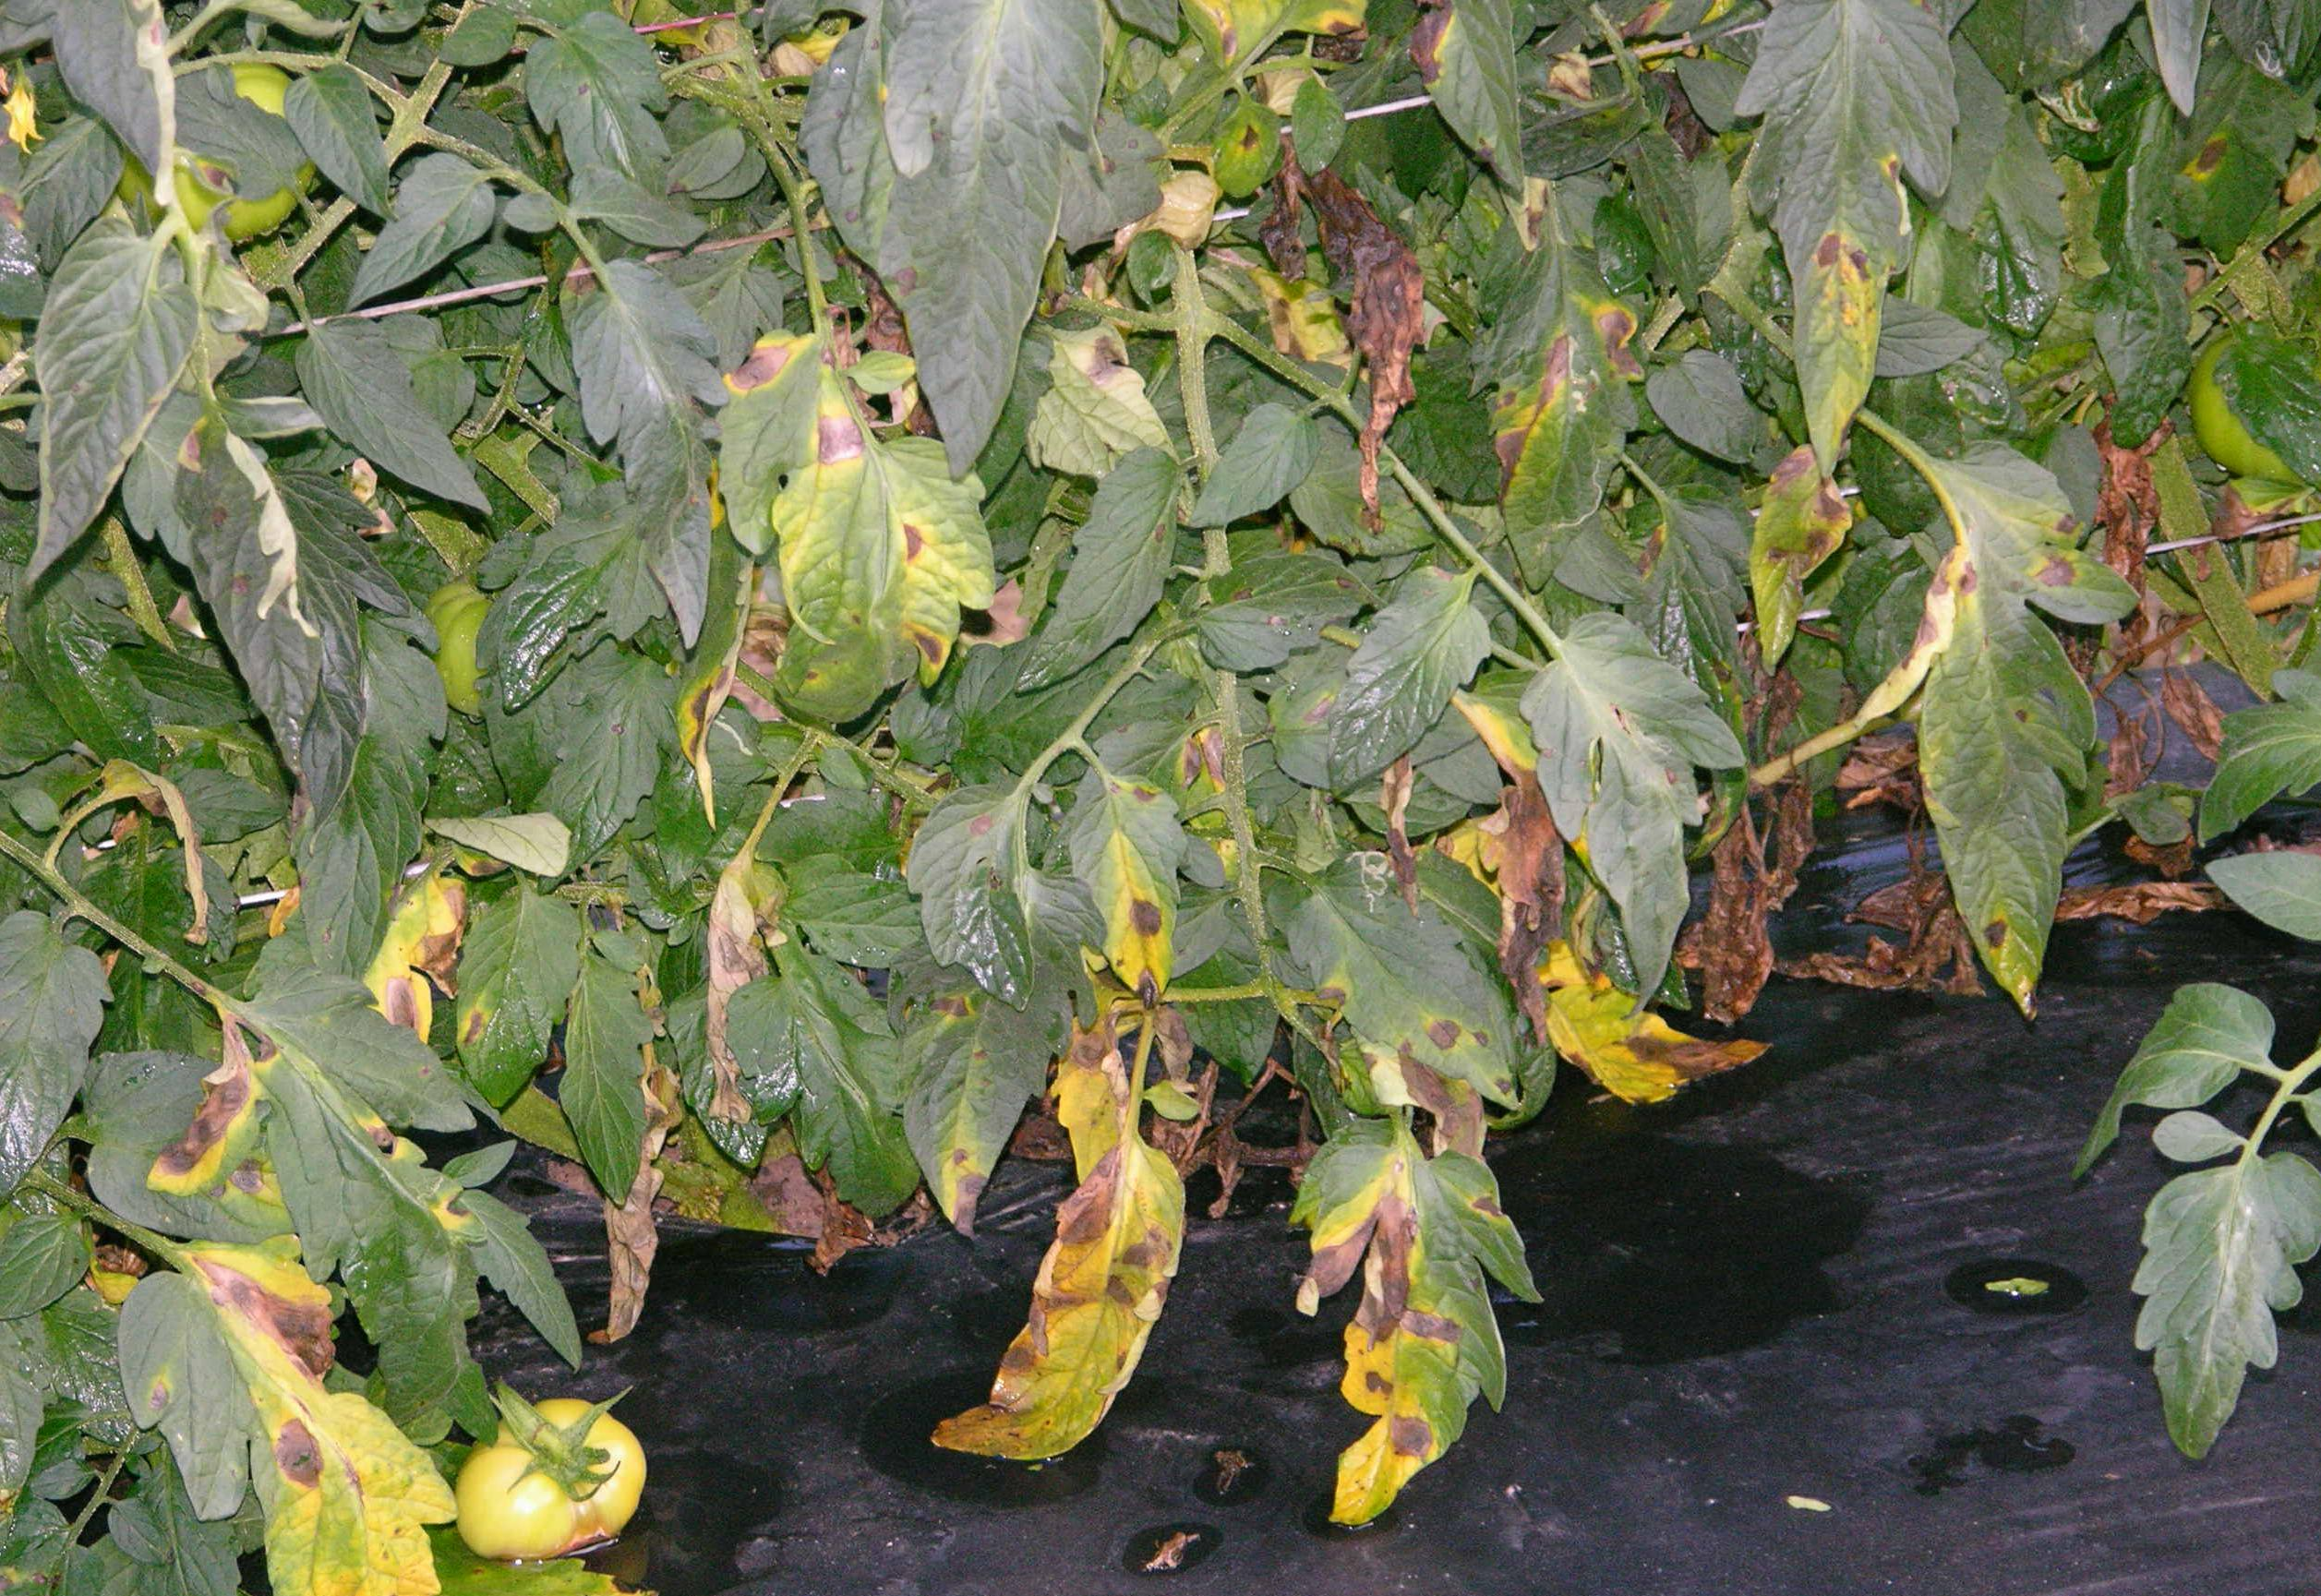Tomato Early blight leaf: (1895, 391, 2126, 1024), (929, 1087, 1218, 1560), (1699, 0, 1970, 467), (106, 1211, 424, 1596), (1283, 1124, 1509, 1560), (1457, 187, 1633, 591), (756, 450, 998, 706), (433, 876, 603, 1150), (1148, 0, 1367, 184), (1062, 744, 1177, 1009), (1733, 441, 1869, 652)
Tomato leaf: (2106, 1139, 2321, 1457), (29, 219, 185, 570), (1010, 452, 1203, 703), (603, 268, 718, 668), (1316, 559, 1495, 807), (0, 914, 110, 1218), (318, 326, 487, 510), (329, 167, 505, 319)
